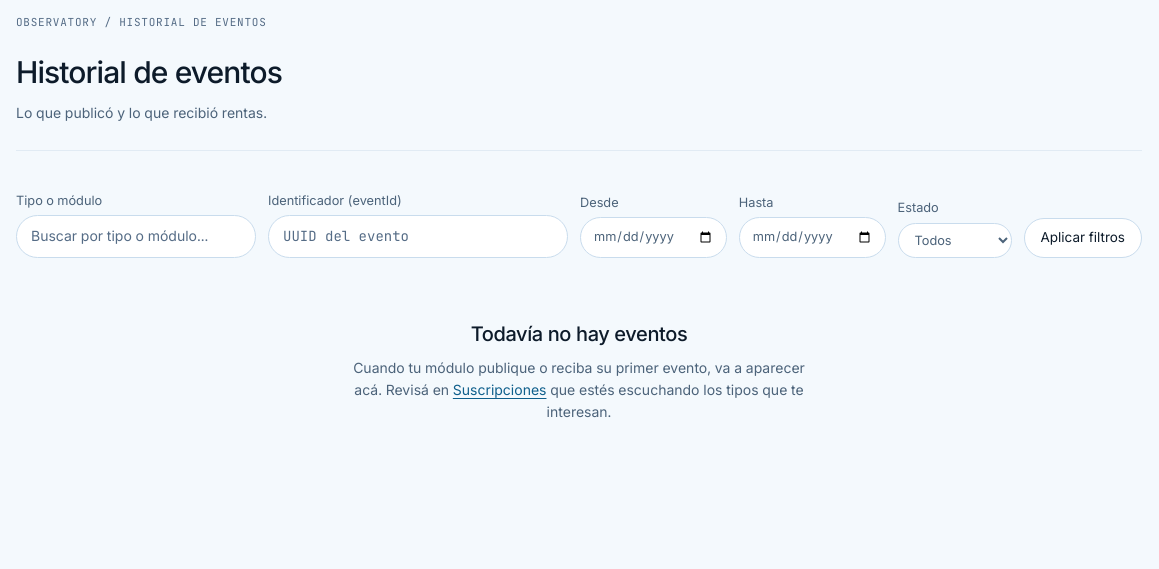
Test: Historial de eventos › filtra por eventId pidiendo ese evento exacto (HU-06)
Expected: the heading "Todavía no hay eventos" is shown, [471,322,687,346]
Type "3f2b6c1e-8a1d-4c55-9b0e-2a7f5d3c9e10" into the field labelled "Identificador (eventId)" at coordinates (418, 236), box [268,215,568,258]
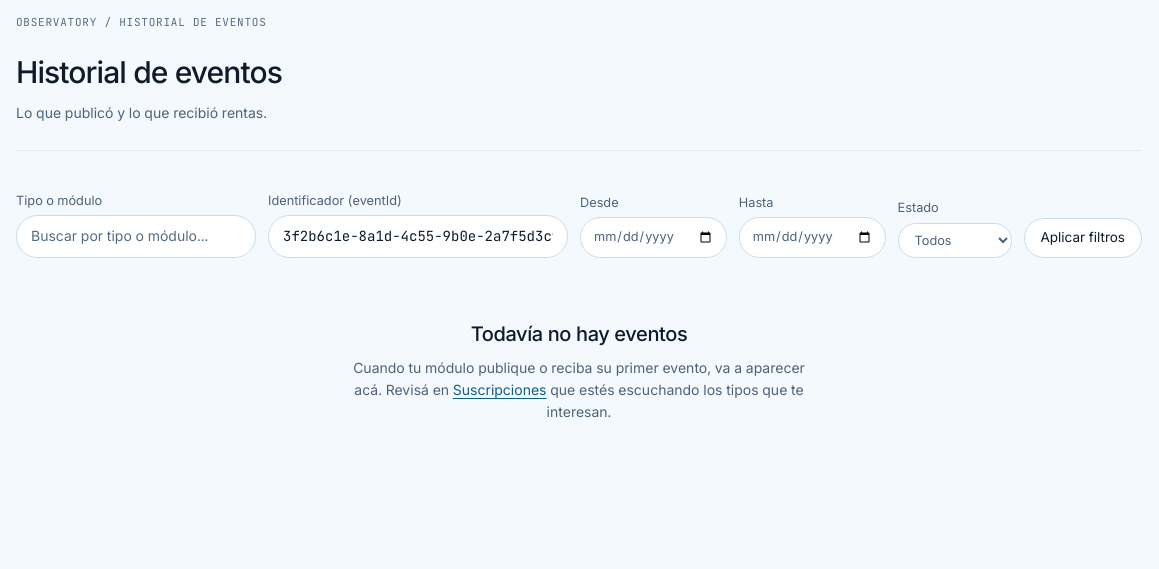
Click the button "Aplicar filtros" at coordinates (1083, 238), box [1024,218,1142,258]
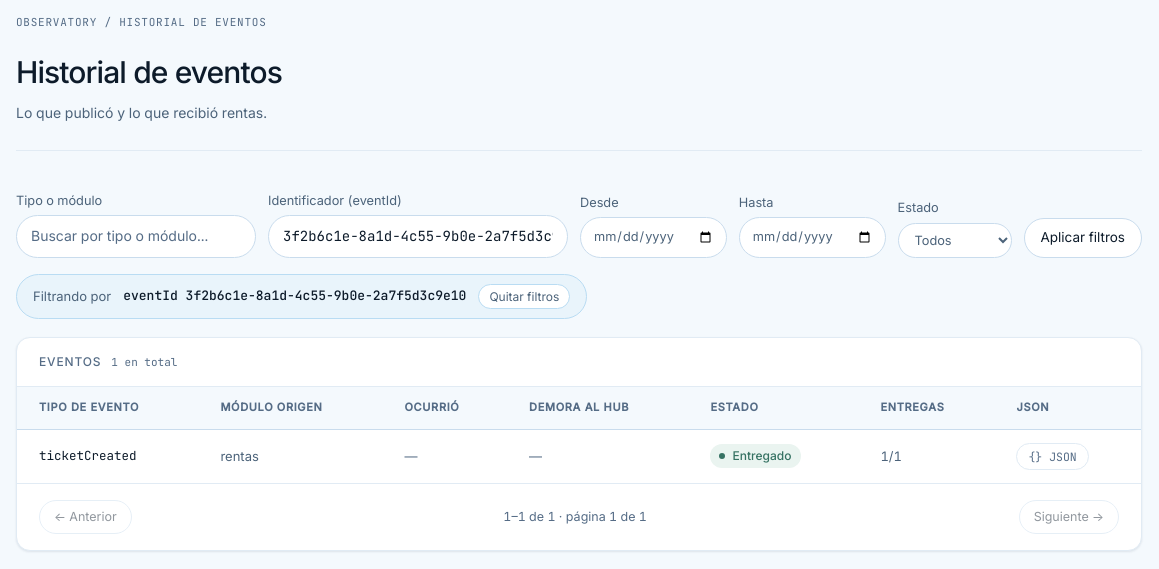
Now the text "ticketCreated" is shown, box [17,429,198,483]
